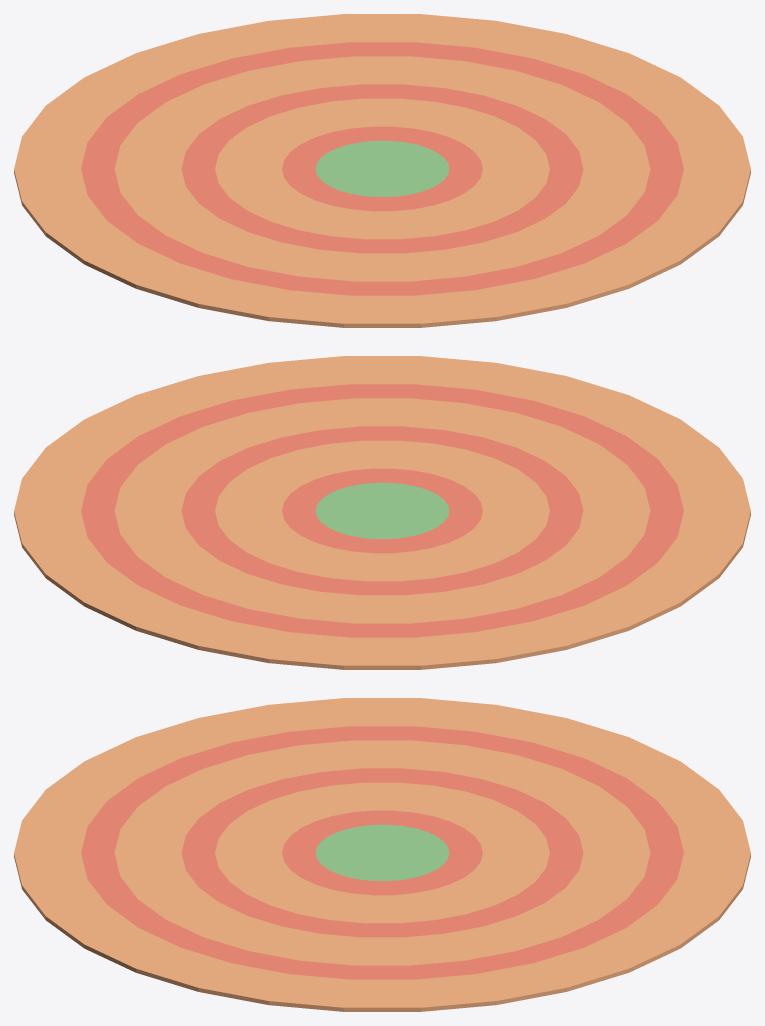
The model's file is halkalar (1).fbx.
3 views of the same model, one above another, from view 1: azimuth 30°, elevation 25°; view 2: azimuth 150°, elevation 25°; view 3: azimuth 270°, elevation 25° (orthographic).
Visible parts, largest first — view 1: Cylinder.046, Cylinder.045, Cylinder.044, Cylinder.043, Cylinder.042, Cylinder.041, Cylinder.040, Cylinder.039, Cylinder.038, Cylinder.037; view 2: Cylinder.046, Cylinder.045, Cylinder.044, Cylinder.043, Cylinder.042, Cylinder.041, Cylinder.040, Cylinder.039, Cylinder.038, Cylinder.037; view 3: Cylinder.046, Cylinder.045, Cylinder.044, Cylinder.043, Cylinder.042, Cylinder.041, Cylinder.040, Cylinder.039, Cylinder.038, Cylinder.037.
Boxes of the visible parts, bbox=[...] form: Cylinder.046: bbox=[14, 14, 750, 327]; Cylinder.045: bbox=[47, 28, 717, 309]; Cylinder.044: bbox=[81, 42, 683, 295]; Cylinder.043: bbox=[114, 56, 650, 281]; Cylinder.042: bbox=[148, 70, 616, 267]; Cylinder.041: bbox=[181, 84, 583, 253]; Cylinder.040: bbox=[215, 98, 549, 239]; Cylinder.039: bbox=[248, 112, 516, 225]; Cylinder.038: bbox=[282, 126, 482, 211]; Cylinder.037: bbox=[315, 140, 449, 196]; Cylinder.046: bbox=[14, 356, 750, 669]; Cylinder.045: bbox=[47, 370, 717, 651]; Cylinder.044: bbox=[81, 384, 683, 637]; Cylinder.043: bbox=[114, 398, 650, 623]; Cylinder.042: bbox=[148, 412, 616, 609]; Cylinder.041: bbox=[181, 426, 583, 595]; Cylinder.040: bbox=[215, 440, 549, 581]; Cylinder.039: bbox=[248, 454, 516, 567]; Cylinder.038: bbox=[282, 468, 482, 553]; Cylinder.037: bbox=[315, 482, 449, 538]; Cylinder.046: bbox=[14, 698, 750, 1011]; Cylinder.045: bbox=[47, 712, 717, 993]; Cylinder.044: bbox=[81, 726, 683, 979]; Cylinder.043: bbox=[114, 740, 650, 965]; Cylinder.042: bbox=[148, 754, 616, 951]; Cylinder.041: bbox=[181, 768, 583, 937]; Cylinder.040: bbox=[215, 782, 549, 923]; Cylinder.039: bbox=[248, 796, 516, 909]; Cylinder.038: bbox=[282, 810, 482, 895]; Cylinder.037: bbox=[315, 824, 449, 880].
Bounding box in the file's own units: 16145 × 100 × 16234.
